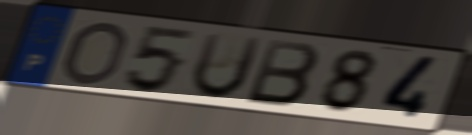4: (376, 52, 437, 125)
5: (122, 22, 202, 94)
8: (318, 48, 380, 114)
B: (242, 36, 322, 109)
O: (59, 19, 132, 87)
U: (188, 31, 267, 102)
